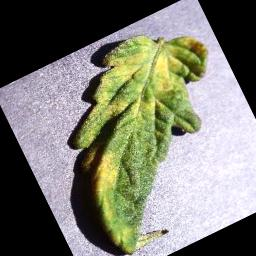Leaf_Mold: (35, 9, 256, 256)
